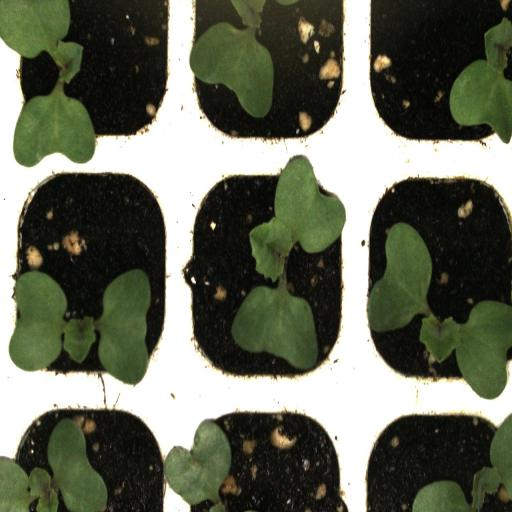Folha: (412, 415, 512, 512), (163, 420, 232, 512)
Germinacao: (178, 152, 358, 394), (4, 152, 173, 387), (358, 152, 512, 406), (0, 0, 179, 146), (182, 0, 354, 140), (361, 0, 512, 144), (0, 389, 170, 512)
